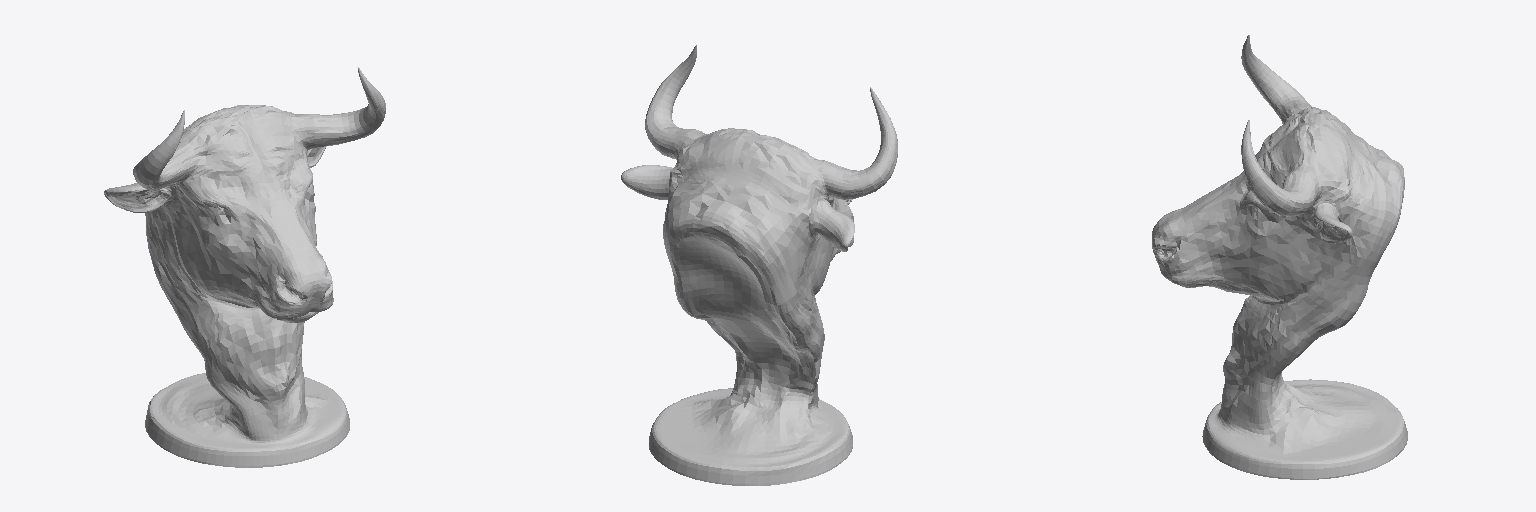
File: bull.obj
3 renders of one model, left to right at view 1: azimuth 30°, elevation 25°; view 2: azimuth 150°, elevation 25°; view 3: azimuth 270°, elevation 25°, orthographic.
Parts seen in each view (by area): view 1: bull_head; view 2: bull_head; view 3: bull_head.
Boxes of the visible parts, box(x1,y1,x2,y2) form: bull_head: box(104, 67, 385, 467); bull_head: box(621, 45, 897, 485); bull_head: box(1152, 35, 1407, 479).
Size of the model in its own units: 0.3064 by 0.433 by 0.2807.